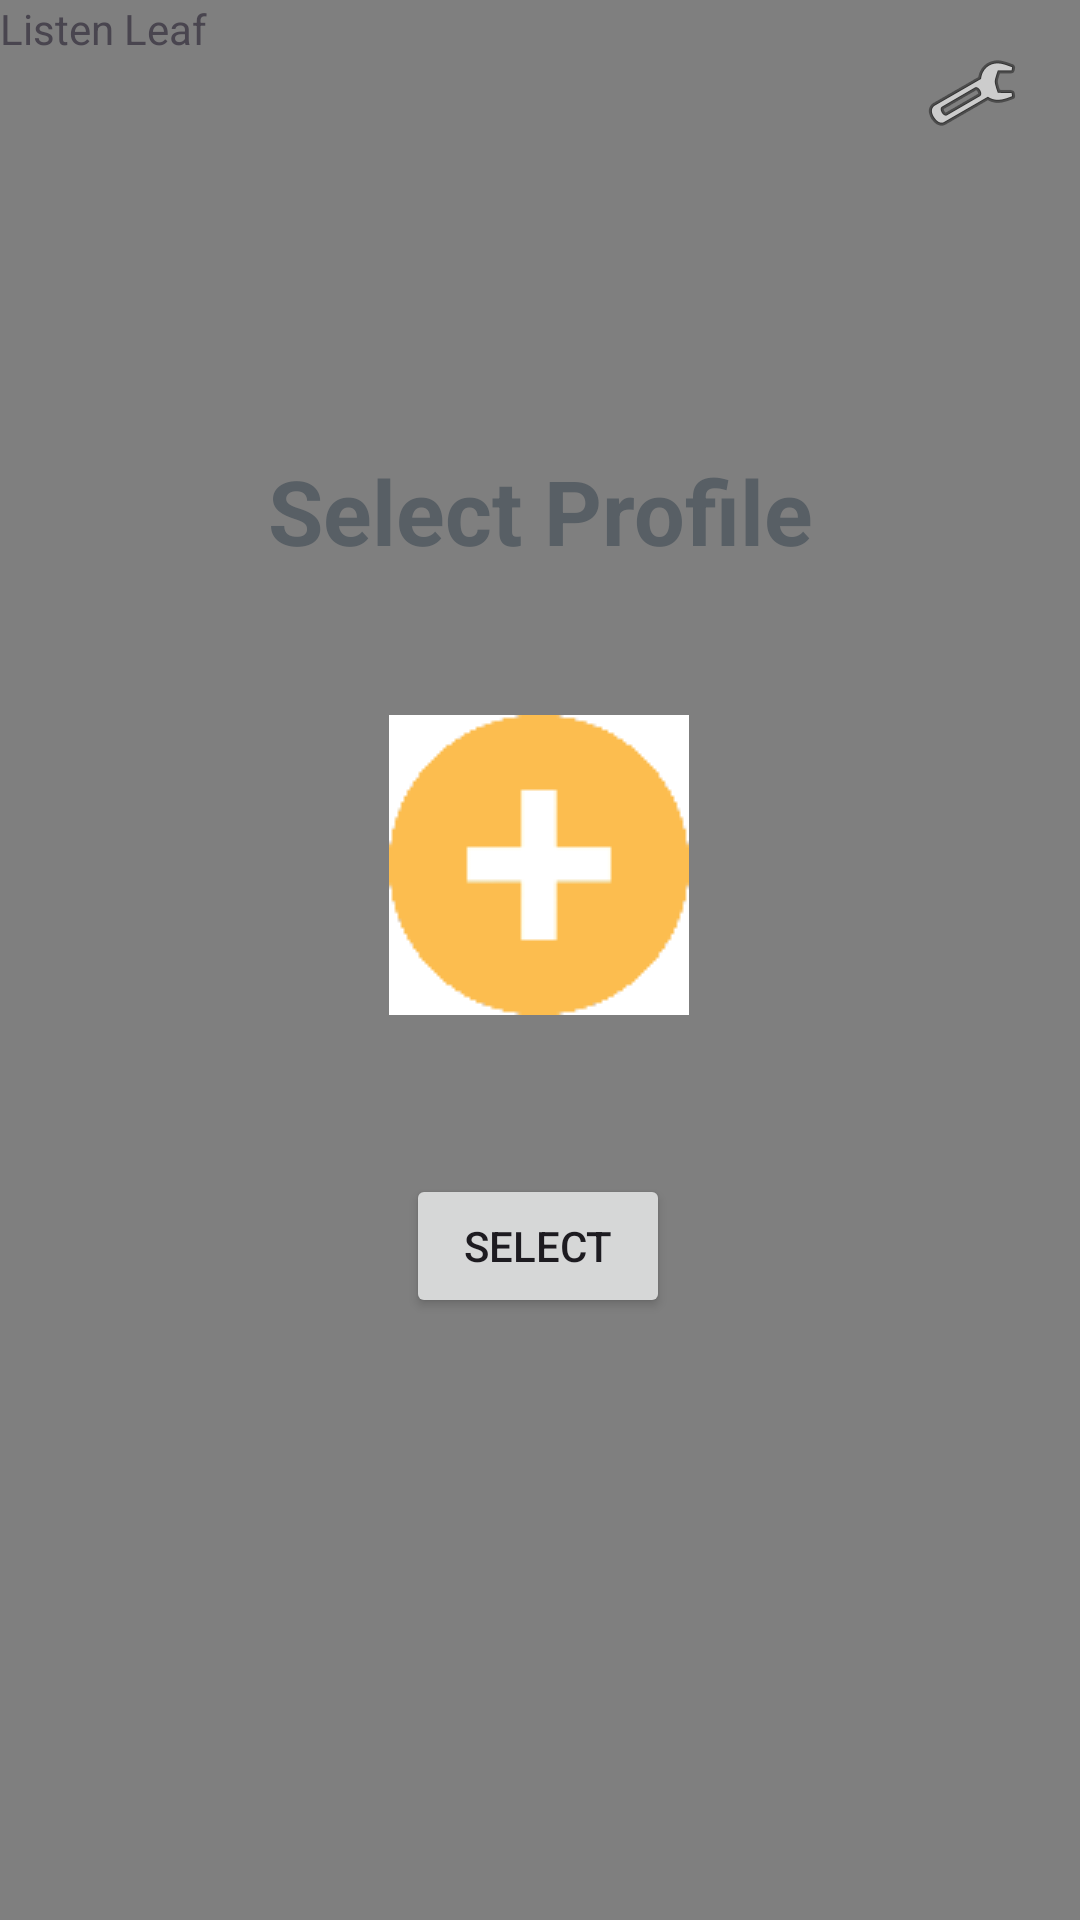

Named icons in this screenshot (1080px×1920px) and their bounding boxes, (x1, y1, x2, y2):
circleplusyellow: (389, 715, 689, 1015)
manage: (929, 60, 1015, 126)
